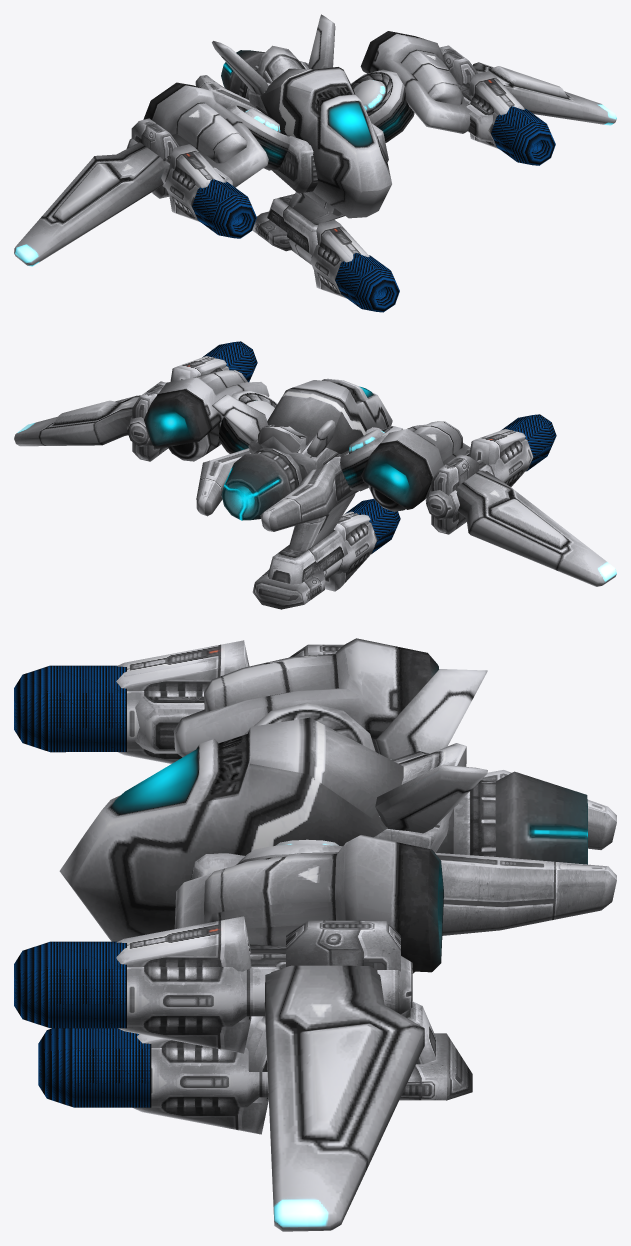
Rendered from Wraith_Umojan_Collection.glb.
3 views of the same model, one above another, from view 1: azimuth 30°, elevation 25°; view 2: azimuth 150°, elevation 25°; view 3: azimuth 270°, elevation 25° (orthographic). The views are drawn at different scales.
Parts seen in each view (by area): view 1: Cylinder01.001, Cylinder01, Mesh, Mesh.001; view 2: Mesh, Cylinder01, Cylinder01.001, Mesh.001; view 3: Cylinder01.001, Mesh, Cylinder01, Mesh.001.
Boxes of the visible parts, x1,y1,x2,y2 form: Cylinder01.001: (143, 31, 470, 218); Cylinder01: (14, 14, 616, 266); Mesh: (126, 45, 524, 298); Mesh.001: (192, 106, 555, 312); Mesh: (127, 356, 533, 609); Cylinder01: (14, 390, 616, 586); Cylinder01.001: (144, 370, 469, 511); Mesh.001: (202, 341, 556, 554); Cylinder01.001: (59, 638, 443, 973); Mesh: (116, 640, 616, 1134); Cylinder01: (236, 669, 587, 1231); Mesh.001: (14, 665, 151, 1107).
Bounding box in the file's own units: 2.24 × 0.7866 × 1.05.
4 materials, 4 textured.
